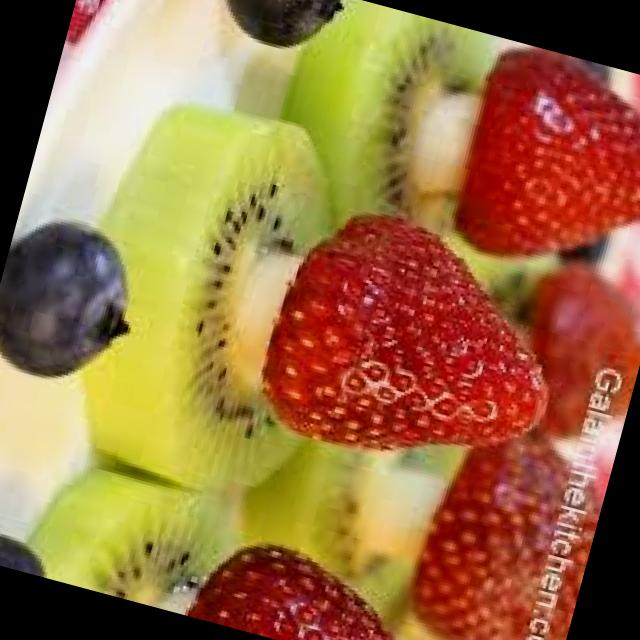tofu: (260, 208, 577, 496), (447, 44, 640, 307)
